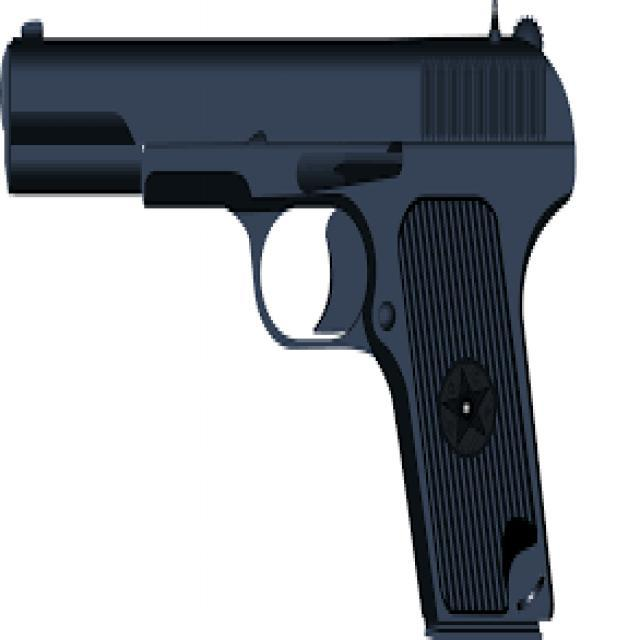semi automatic: (3, 6, 590, 634)
